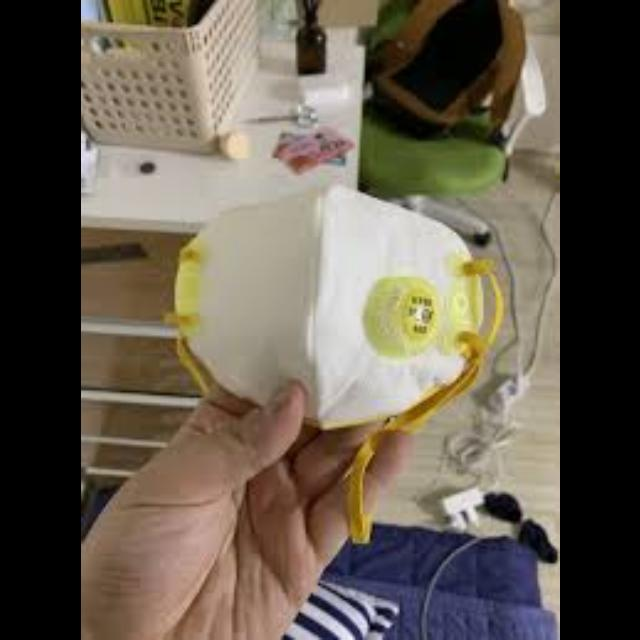masks: (156, 181, 520, 433)
